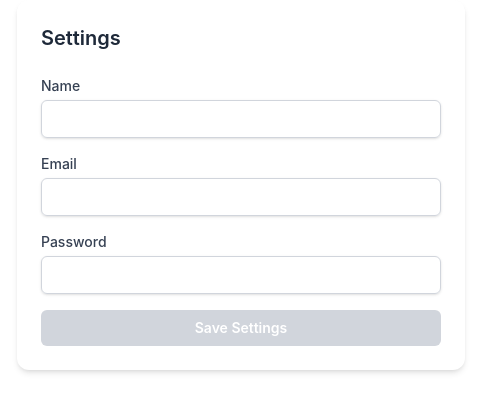
Scenario: SettingsForm › shows error for short password
Type "123" into the password field labelled "Password" at (241, 275), box [41,256,441,294]
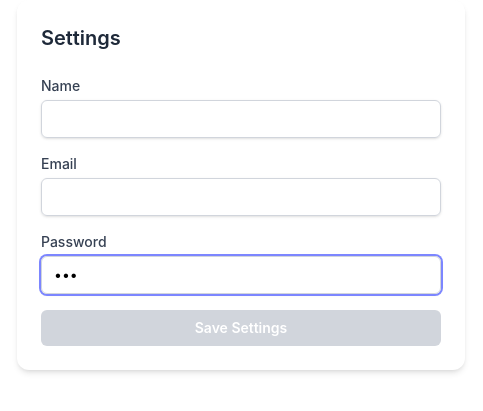
Press Tab
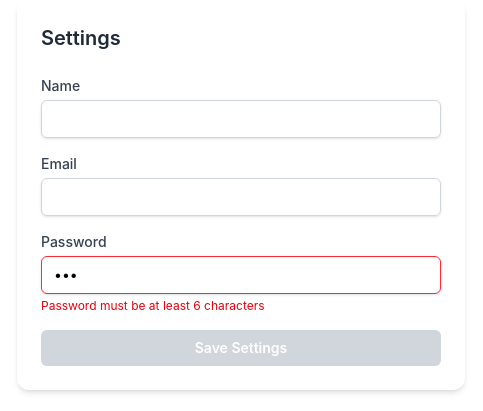
Now the text "Password must be at least 6 characters" is shown, box [41,298,265,313]
